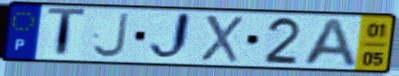2: (262, 14, 304, 66)
A: (299, 17, 361, 69)
J: (147, 10, 194, 64), (90, 11, 131, 60)
T: (46, 6, 89, 61)
X: (198, 13, 245, 65)
